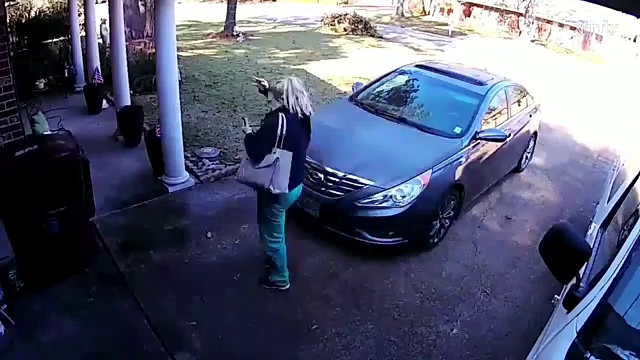face: (265, 87, 284, 111)
